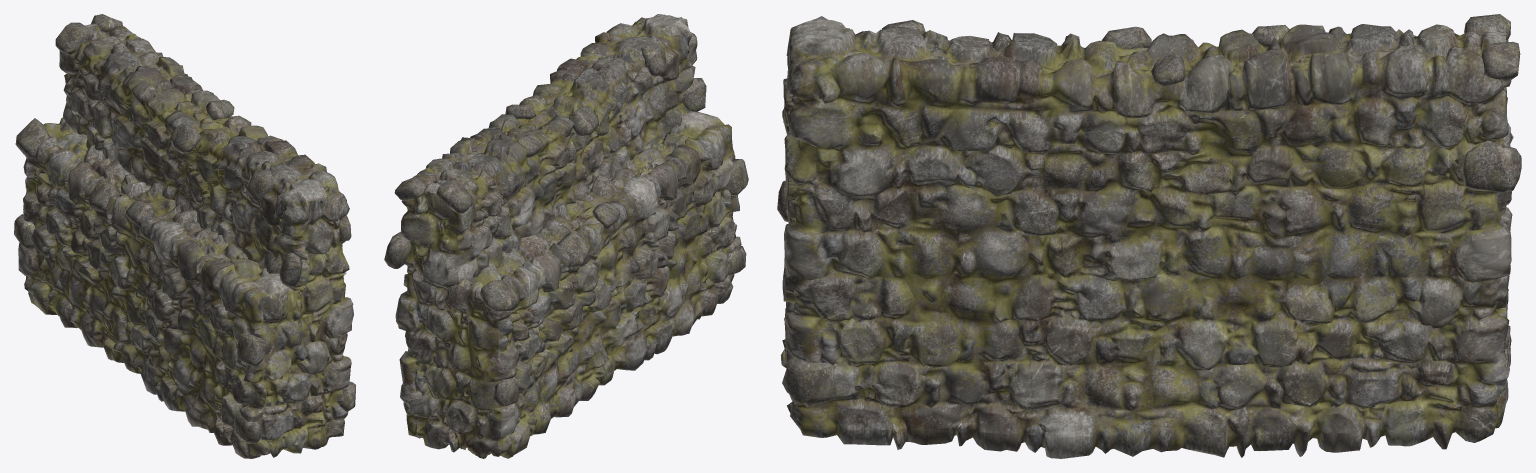
The model's file is SM_Wall_Stone_02.fbx.
3 views of the same model, side by side, from view 1: azimuth 30°, elevation 25°; view 2: azimuth 150°, elevation 25°; view 3: azimuth 270°, elevation 25° (orthographic). The views are drawn at different scales.
Visible parts, largest first — view 1: SM_Wall_Stone_02_LOD0; view 2: SM_Wall_Stone_02_LOD0; view 3: SM_Wall_Stone_02_LOD0.
Part boxes in pixels (x1=…): SM_Wall_Stone_02_LOD0: x1=14, y1=14, x2=355, y2=458; SM_Wall_Stone_02_LOD0: x1=384, y1=14, x2=748, y2=458; SM_Wall_Stone_02_LOD0: x1=777, y1=14, x2=1521, y2=458.
Bounding box in the file's own units: 160 × 527 × 318.
